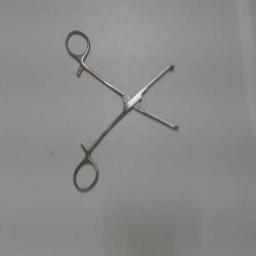Allis Tissue Forceps: (62, 26, 182, 194)
